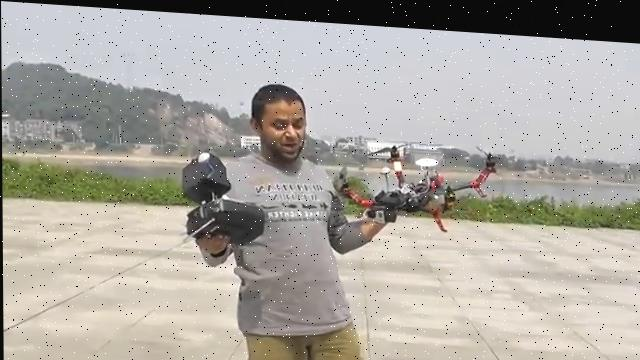drone: (332, 124, 506, 228)
